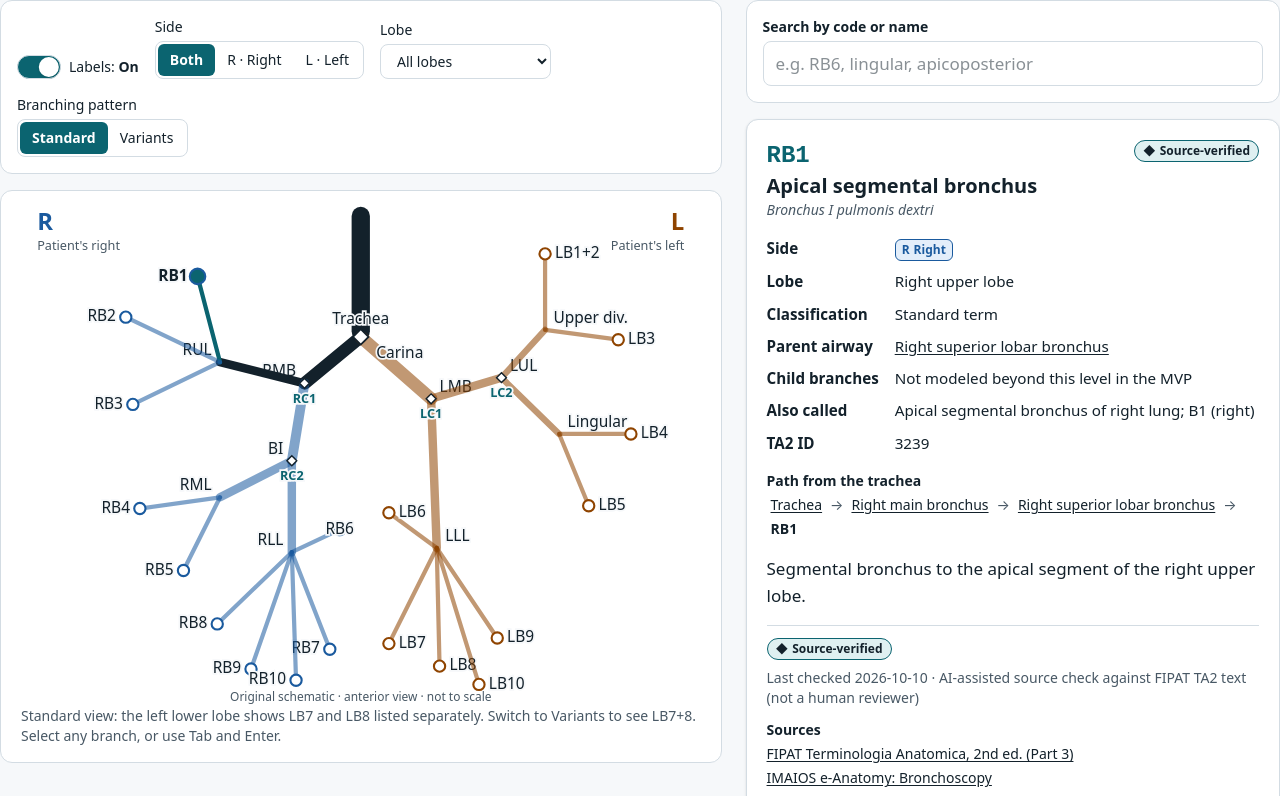
it: AirwayAtlas › search finds a structure by code and selects it
Type "LB1+2" into the search field at coordinates (1013, 64), box [762,41,1263,86]
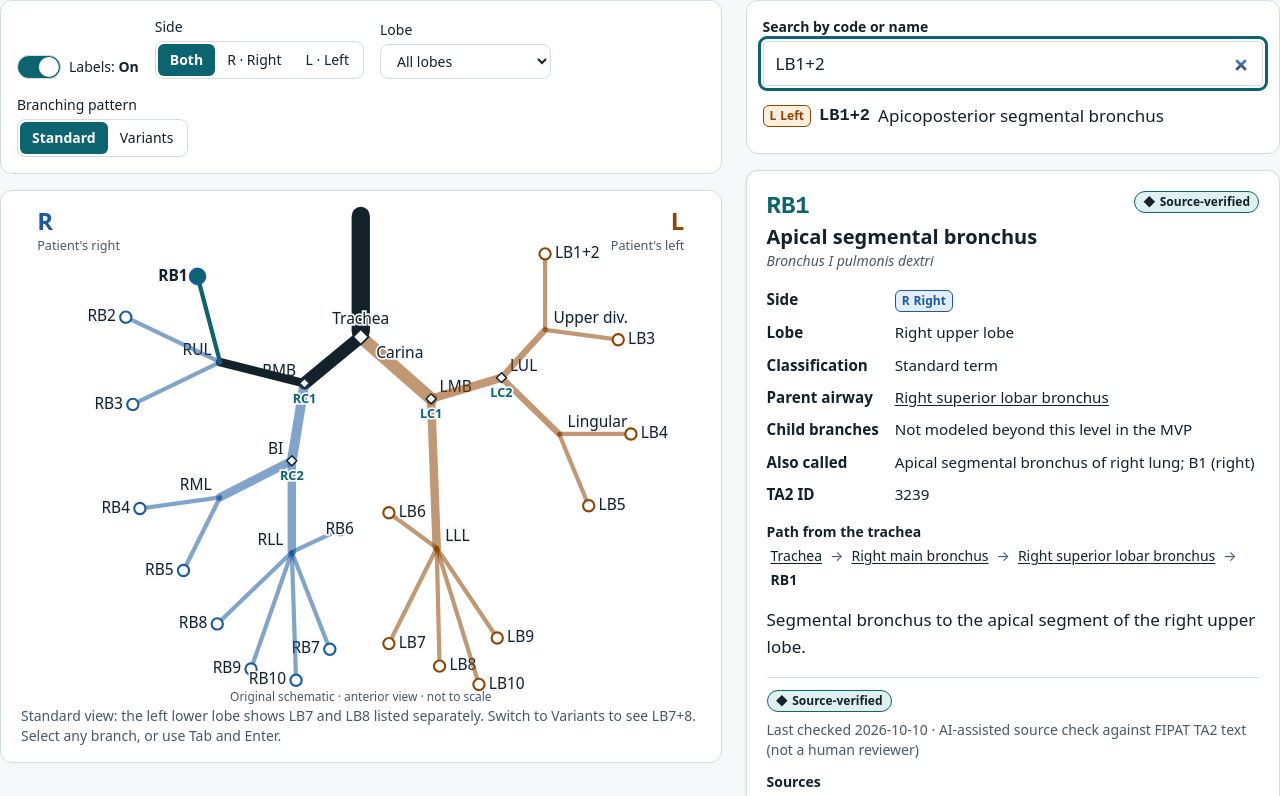
Click the button "L Left LB1+2 Apicoposterior segmental bronchus" at coordinates (1013, 116), box [762,94,1263,137]
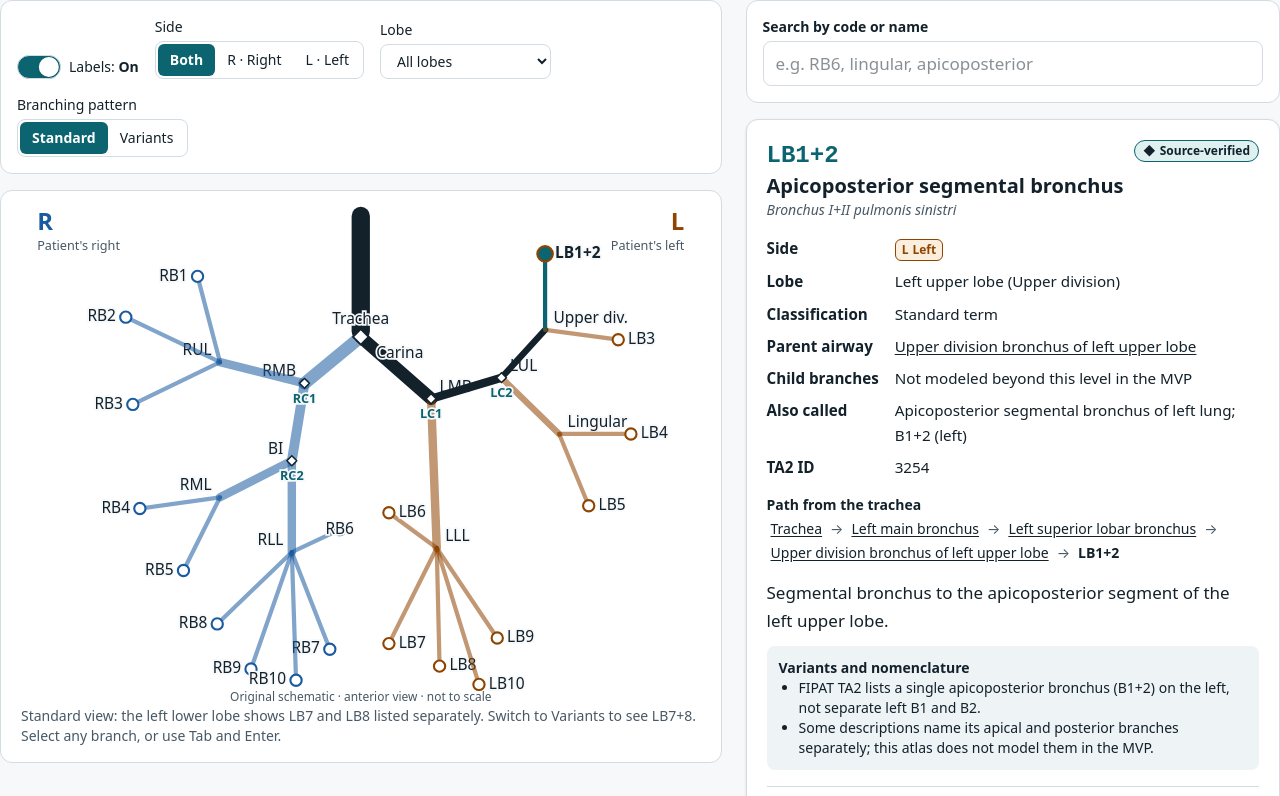
Result: the heading "Apicoposterior segmental bronchus" is shown at [766,172,1124,200]
